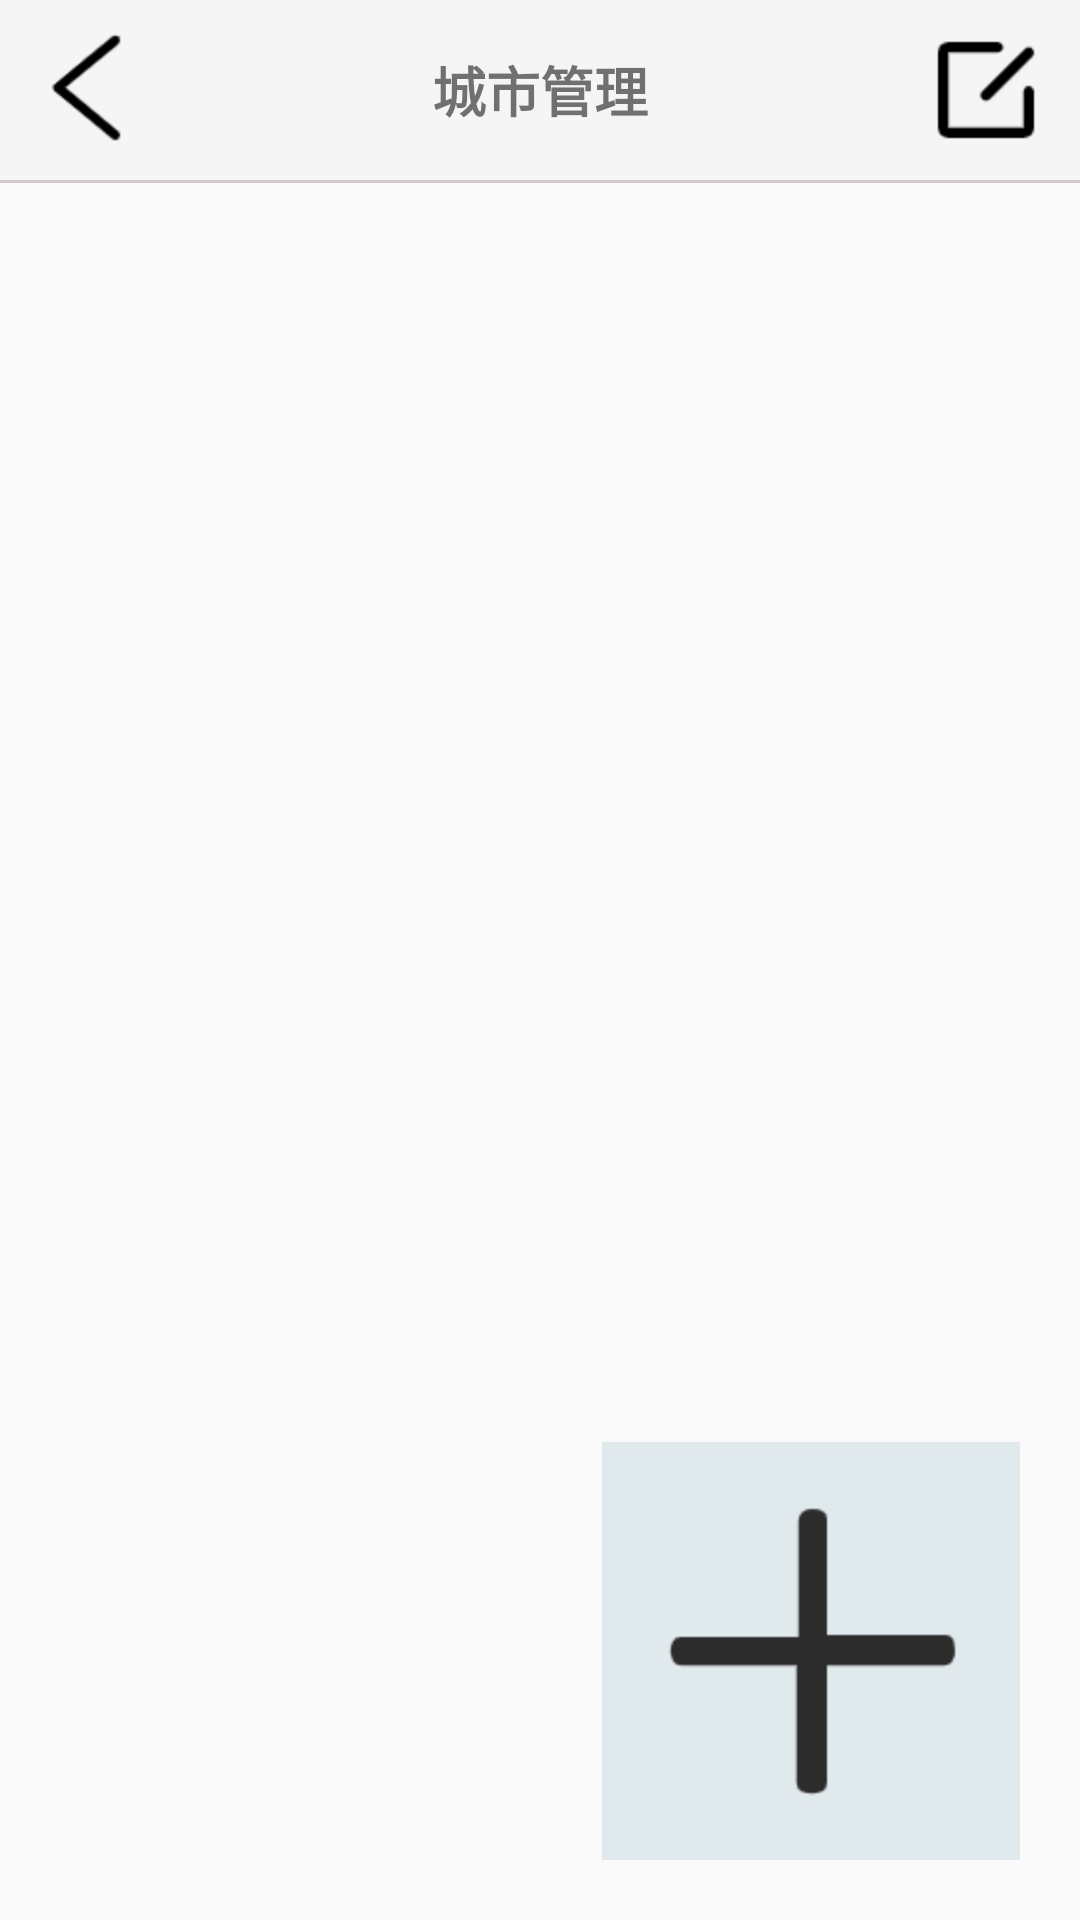

Where to tap for icons on this 1080x1920 app screen, as (x,y):
back: (86,88)
edit: (986,90)
